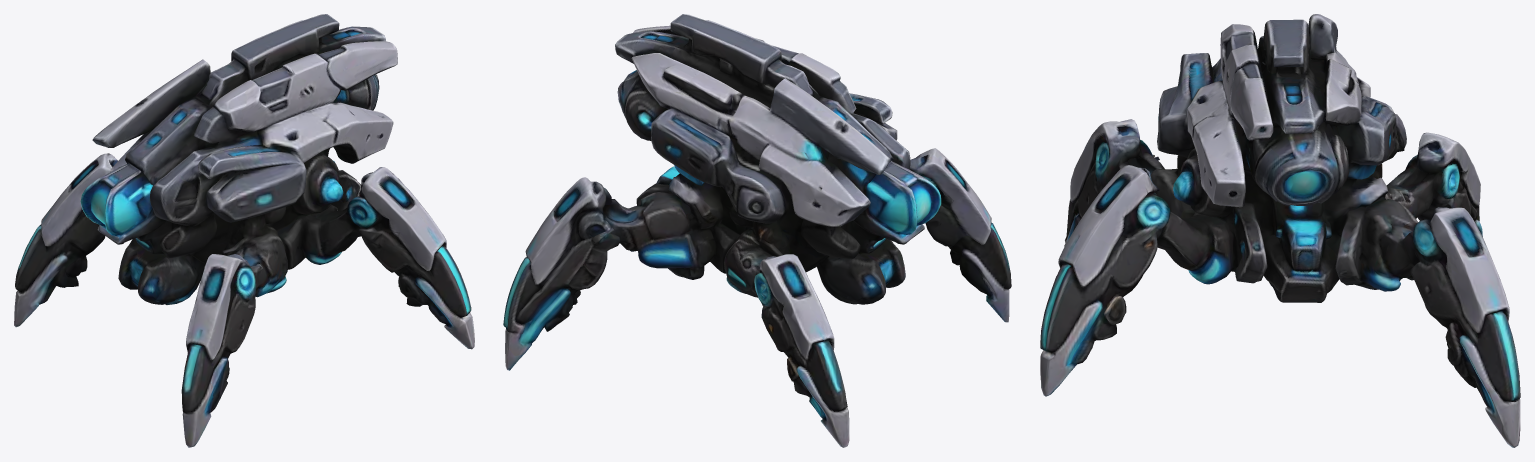
Rendered from cyber-scout.glb.
3 views of the same model, side by side, from view 1: azimuth 30°, elevation 25°; view 2: azimuth 150°, elevation 25°; view 3: azimuth 270°, elevation 25° (orthographic). The views are drawn at different scales.
Visible parts, largest first — view 1: tripo_node_7f20ed35-d865-492e-93c0-7fee835b1882; view 2: tripo_node_7f20ed35-d865-492e-93c0-7fee835b1882; view 3: tripo_node_7f20ed35-d865-492e-93c0-7fee835b1882.
Boxes of the visible parts, left/top/right/bottom form: tripo_node_7f20ed35-d865-492e-93c0-7fee835b1882: left=14, top=14, right=474, bottom=447; tripo_node_7f20ed35-d865-492e-93c0-7fee835b1882: left=503, top=14, right=1011, bottom=447; tripo_node_7f20ed35-d865-492e-93c0-7fee835b1882: left=1040, top=14, right=1520, bottom=447.
Size of the model in its own units: 0.9171 by 0.8436 by 1.
Materials: 1 (1 with a texture image).
